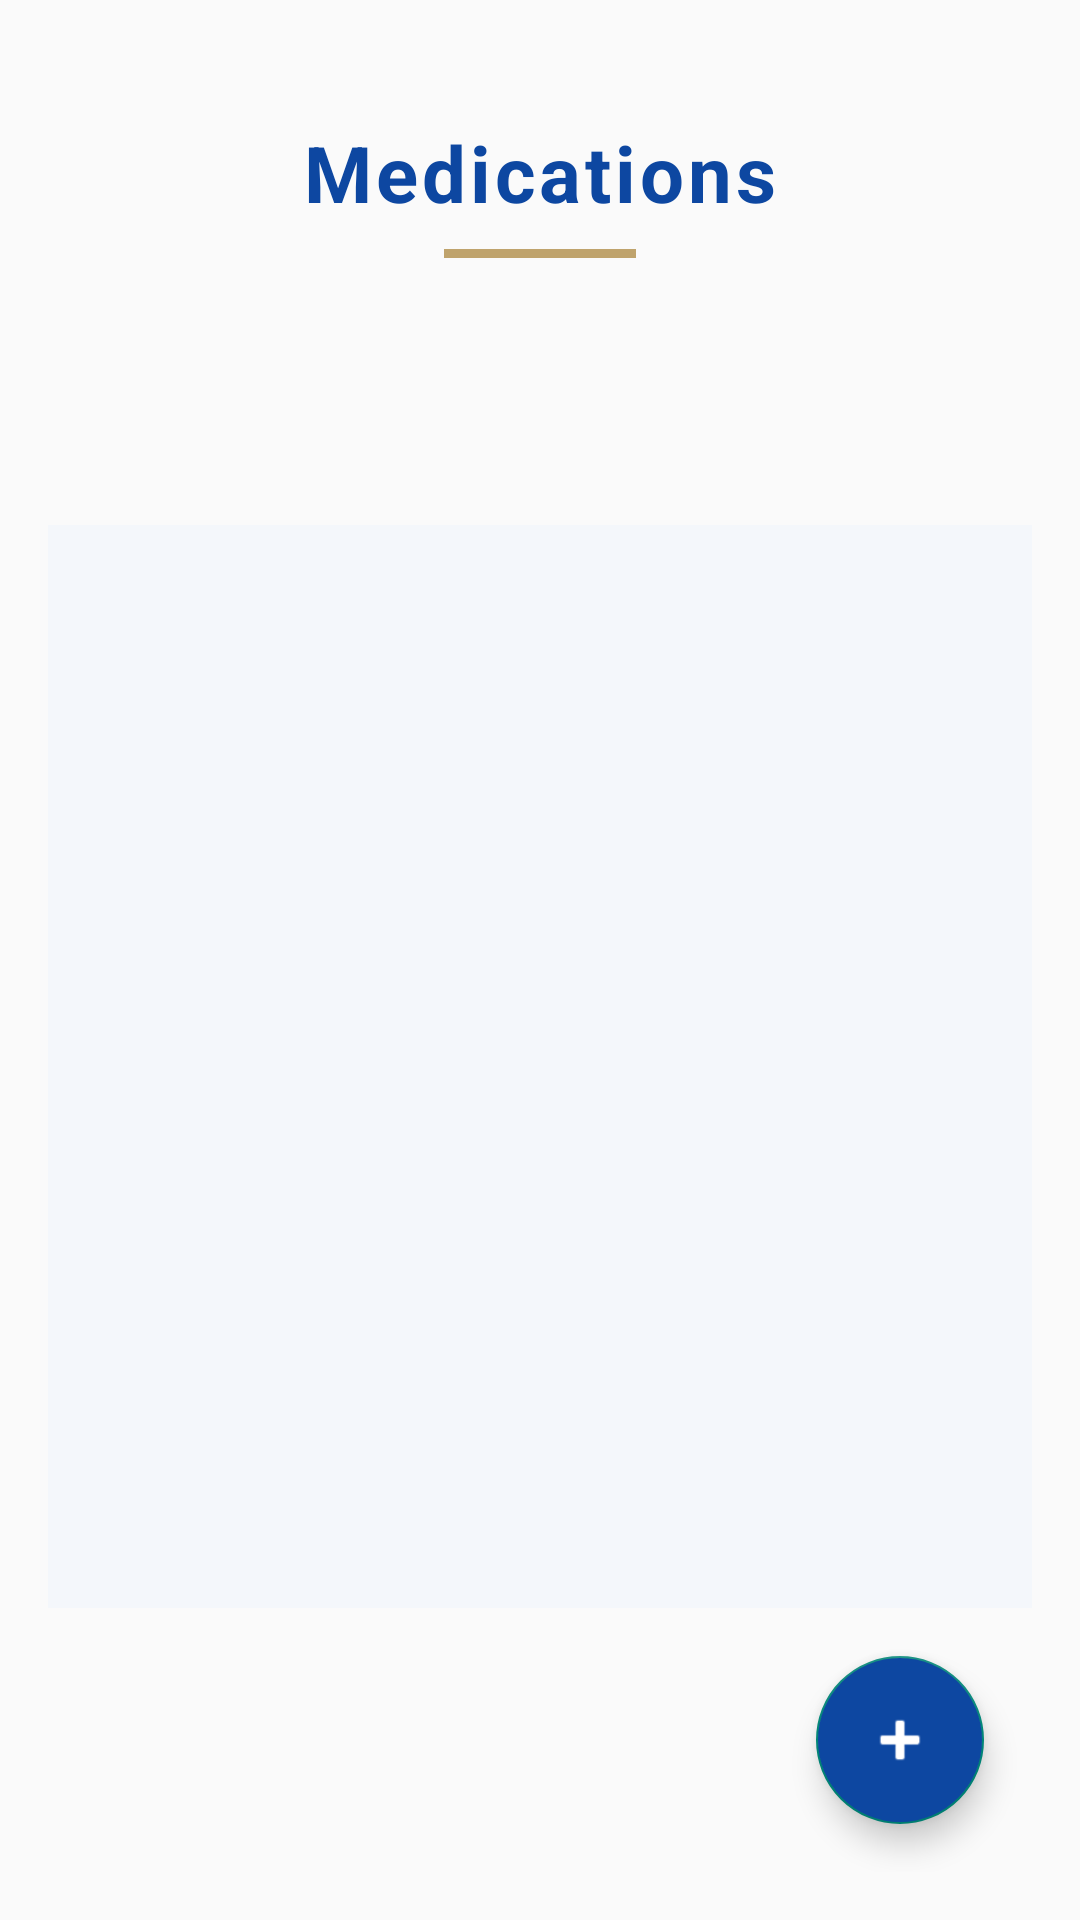

Where icons sit on this 1080×1920 app screen, as (x1,y1,x2,y2):
Add Medication: (816,1656,984,1824)
